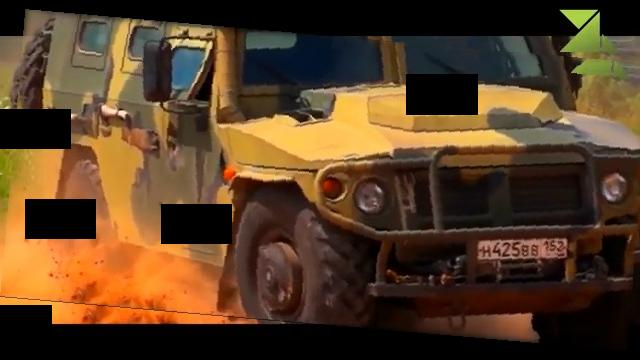MIL_HMMWV: (5, 22, 640, 337)
